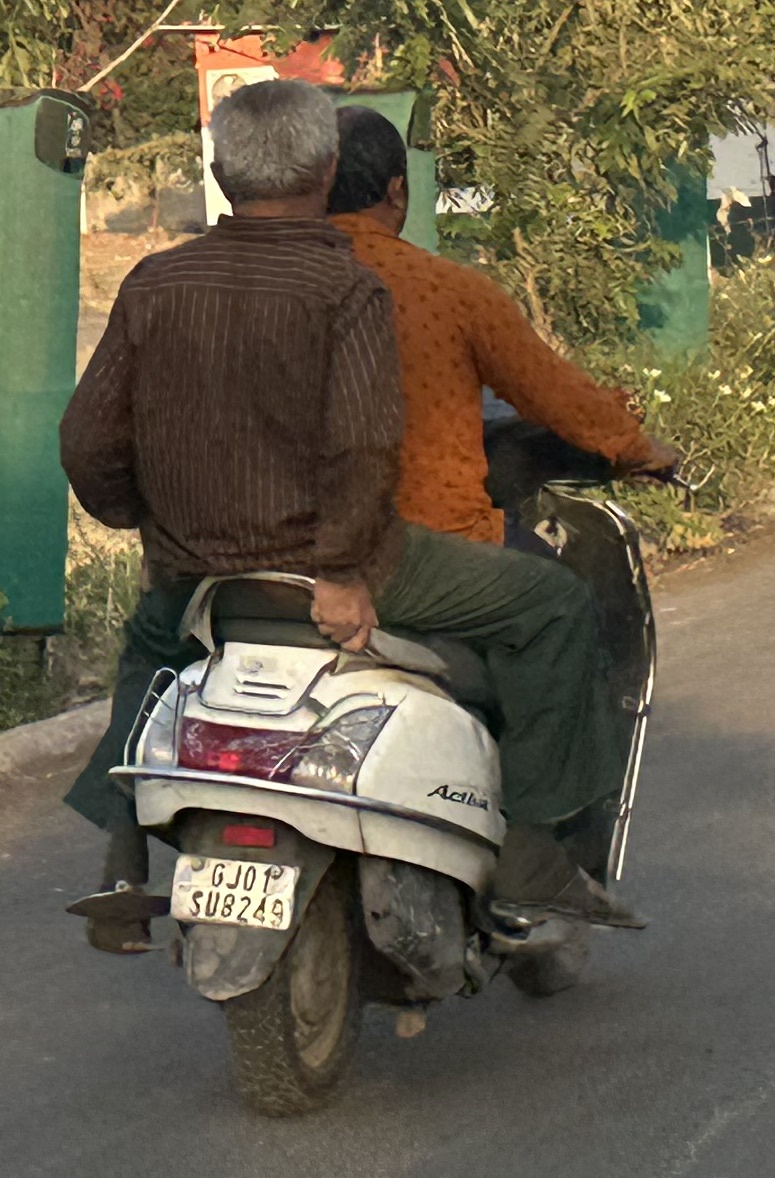BikeWithRider: (40, 61, 713, 1132)
NoHelmet: (193, 70, 355, 232), (303, 92, 427, 245)
